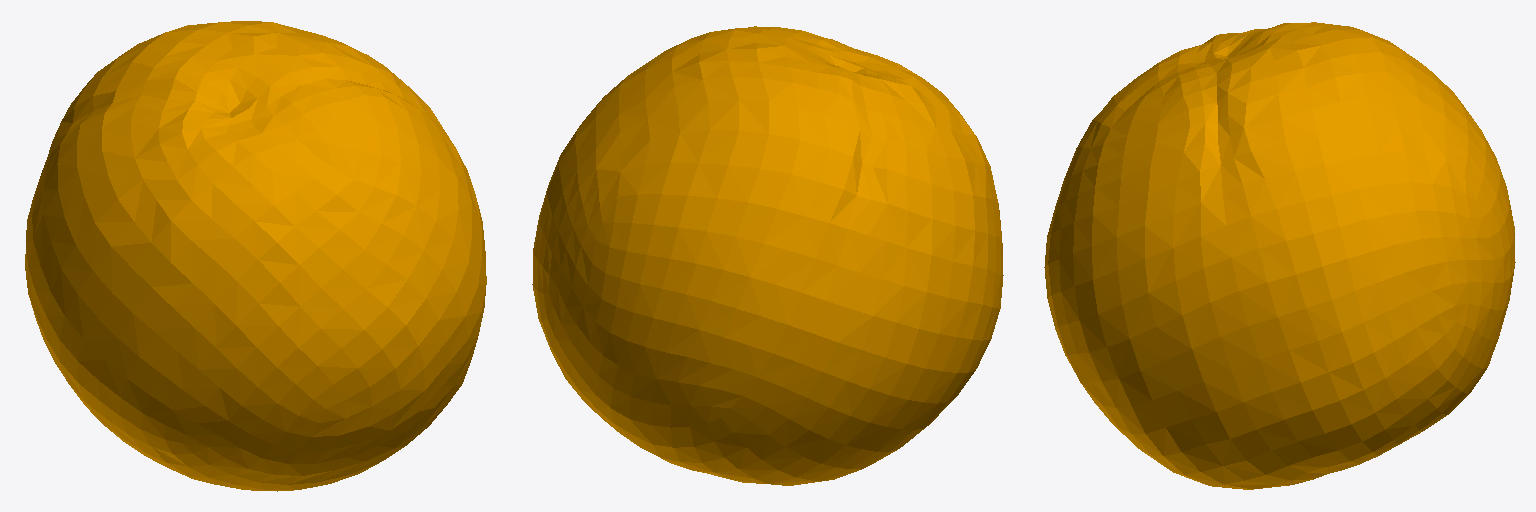
robot.urdf — orange:
<robot name="orange">
  <link name="orange">
    <inertial>
      <origin xyz="0 0 0" />
      <mass value="0.6" />
      <inertia  ixx="0.000469" ixy="0.0"  ixz="0.0"  iyy="0.000469"  iyz="0.0"  izz="0.00042" />
    </inertial>
    <visual>
      <origin xyz="0.0 0 0.0"/>
      <geometry>
        <mesh filename="package://penguinpi_gazebo/models/orange/orange.dae"/>
      </geometry>
    </visual>
    <collision>
      <origin xyz="0.0 0 0.0"/>
      <geometry>
        <cylinder length="0.06" radius="0.03"/>
      </geometry>
    </collision>
  </link>
</robot>

--- Facts derived from the render (not from the file) ---
3 views of the same robot in one strip: view 1: azimuth 30°, elevation 25°; view 2: azimuth 150°, elevation 25°; view 3: azimuth 270°, elevation 25° (orthographic).
Robot: orange — 1 links, 0 joints (none); root link orange; default pose: all joints at 0.
Visible links, largest first — view 1: orange; view 2: orange; view 3: orange.
Link boxes in pixels (x1,y1,x2,y2): orange: (25, 21, 486, 491); orange: (532, 26, 1003, 485); orange: (1044, 22, 1515, 489).
Size in the robot's own frame: 0.0747 by 0.0769 by 0.0746 metres.
Meshes: 1 distinct files referenced, 1 mesh visuals loaded (1 Collada DAE).